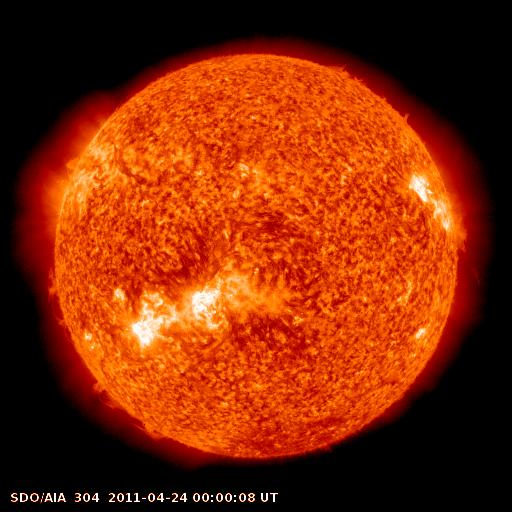prominence: (39, 264, 82, 347), (316, 52, 371, 90), (78, 374, 125, 414), (131, 414, 172, 447)
